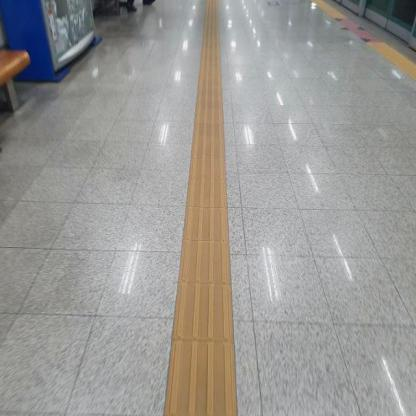podotacti: (164, 0, 238, 414)
